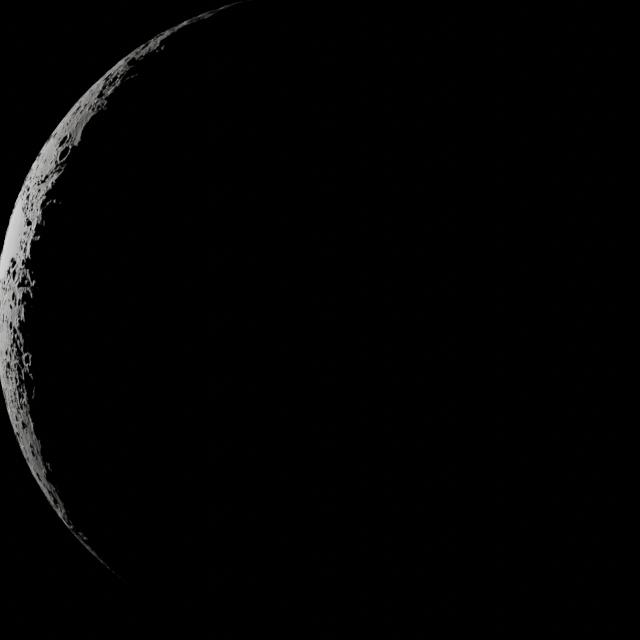crater: (56, 142, 72, 163), (22, 353, 32, 367), (126, 57, 138, 67)
rock: (20, 356, 36, 386), (17, 271, 34, 289), (56, 134, 67, 148), (45, 462, 52, 472), (33, 234, 41, 242), (21, 421, 27, 430), (26, 218, 32, 226), (52, 198, 58, 205), (160, 44, 166, 51)
